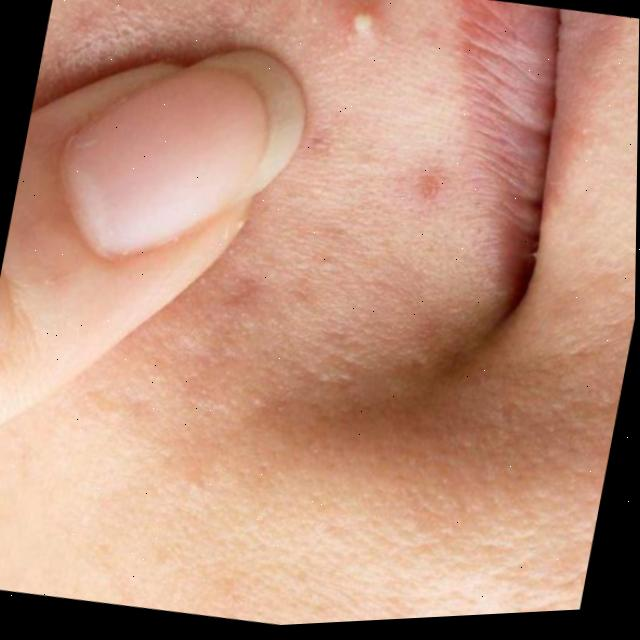Acne: (325, 0, 396, 46)
